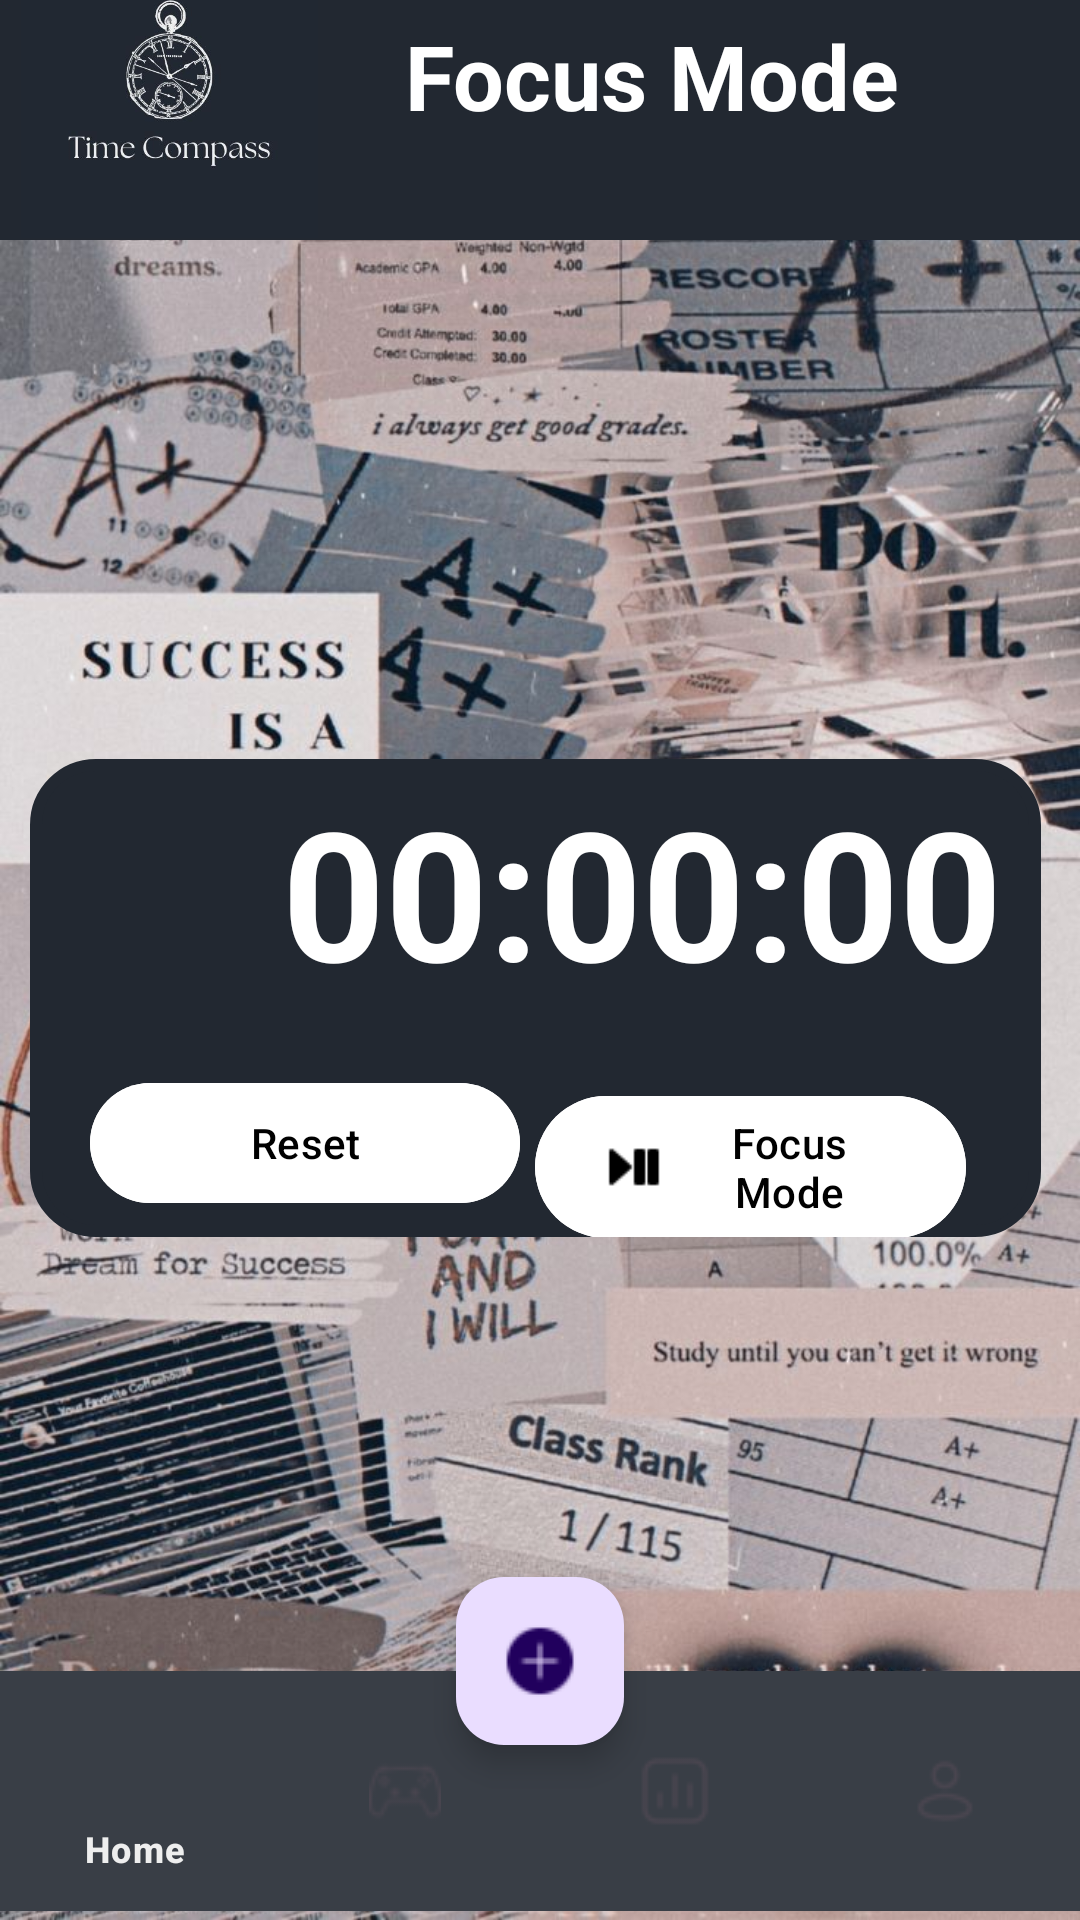

Screen size 1080*1920. Icon name, then its center in pixels as (x=x, y=y):
plus: (x=540, y=1661)
